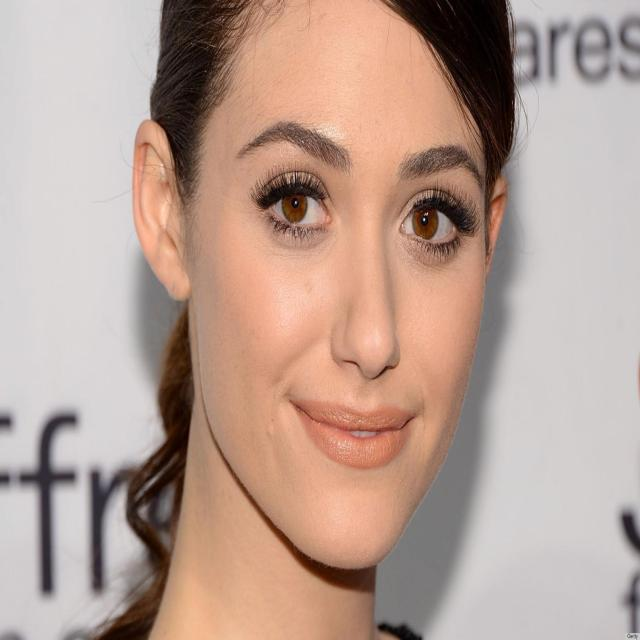no-earmuff: (130, 116, 189, 300)
